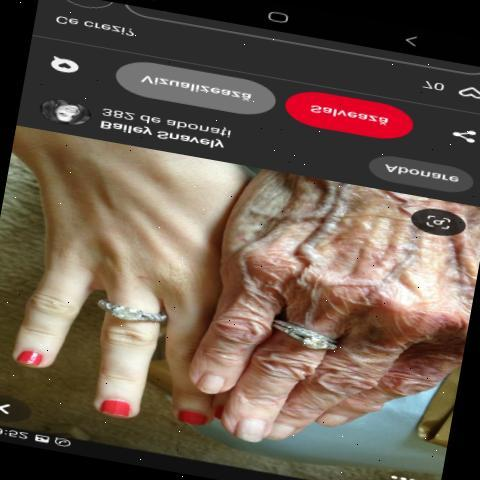Hands: (186, 194, 480, 446)
